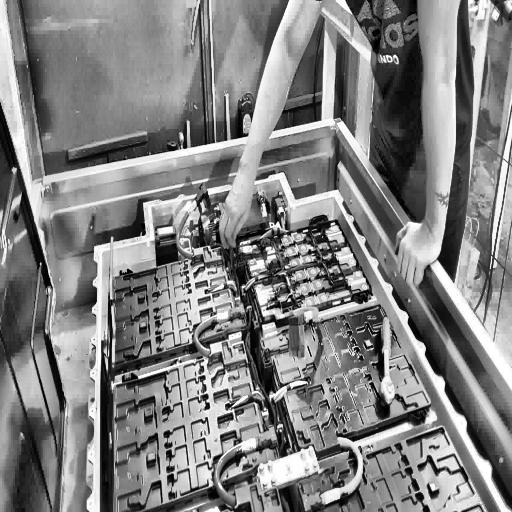high_volt_cable: (213, 425, 279, 506), (301, 434, 366, 512), (192, 304, 245, 358), (276, 304, 320, 326)
low_volt_cable: (241, 224, 346, 296), (225, 377, 311, 413)
